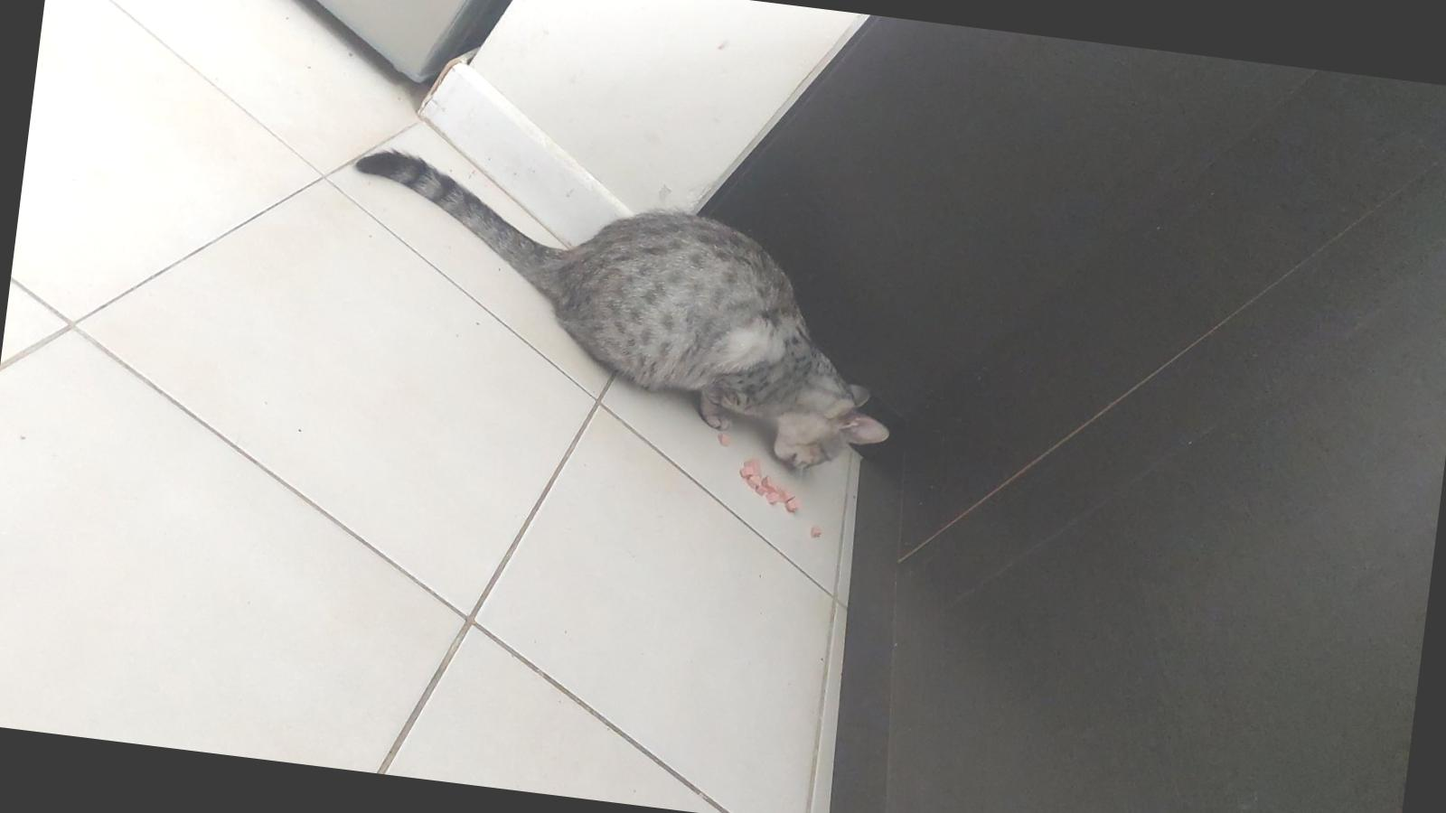macka: (319, 146, 916, 489)
